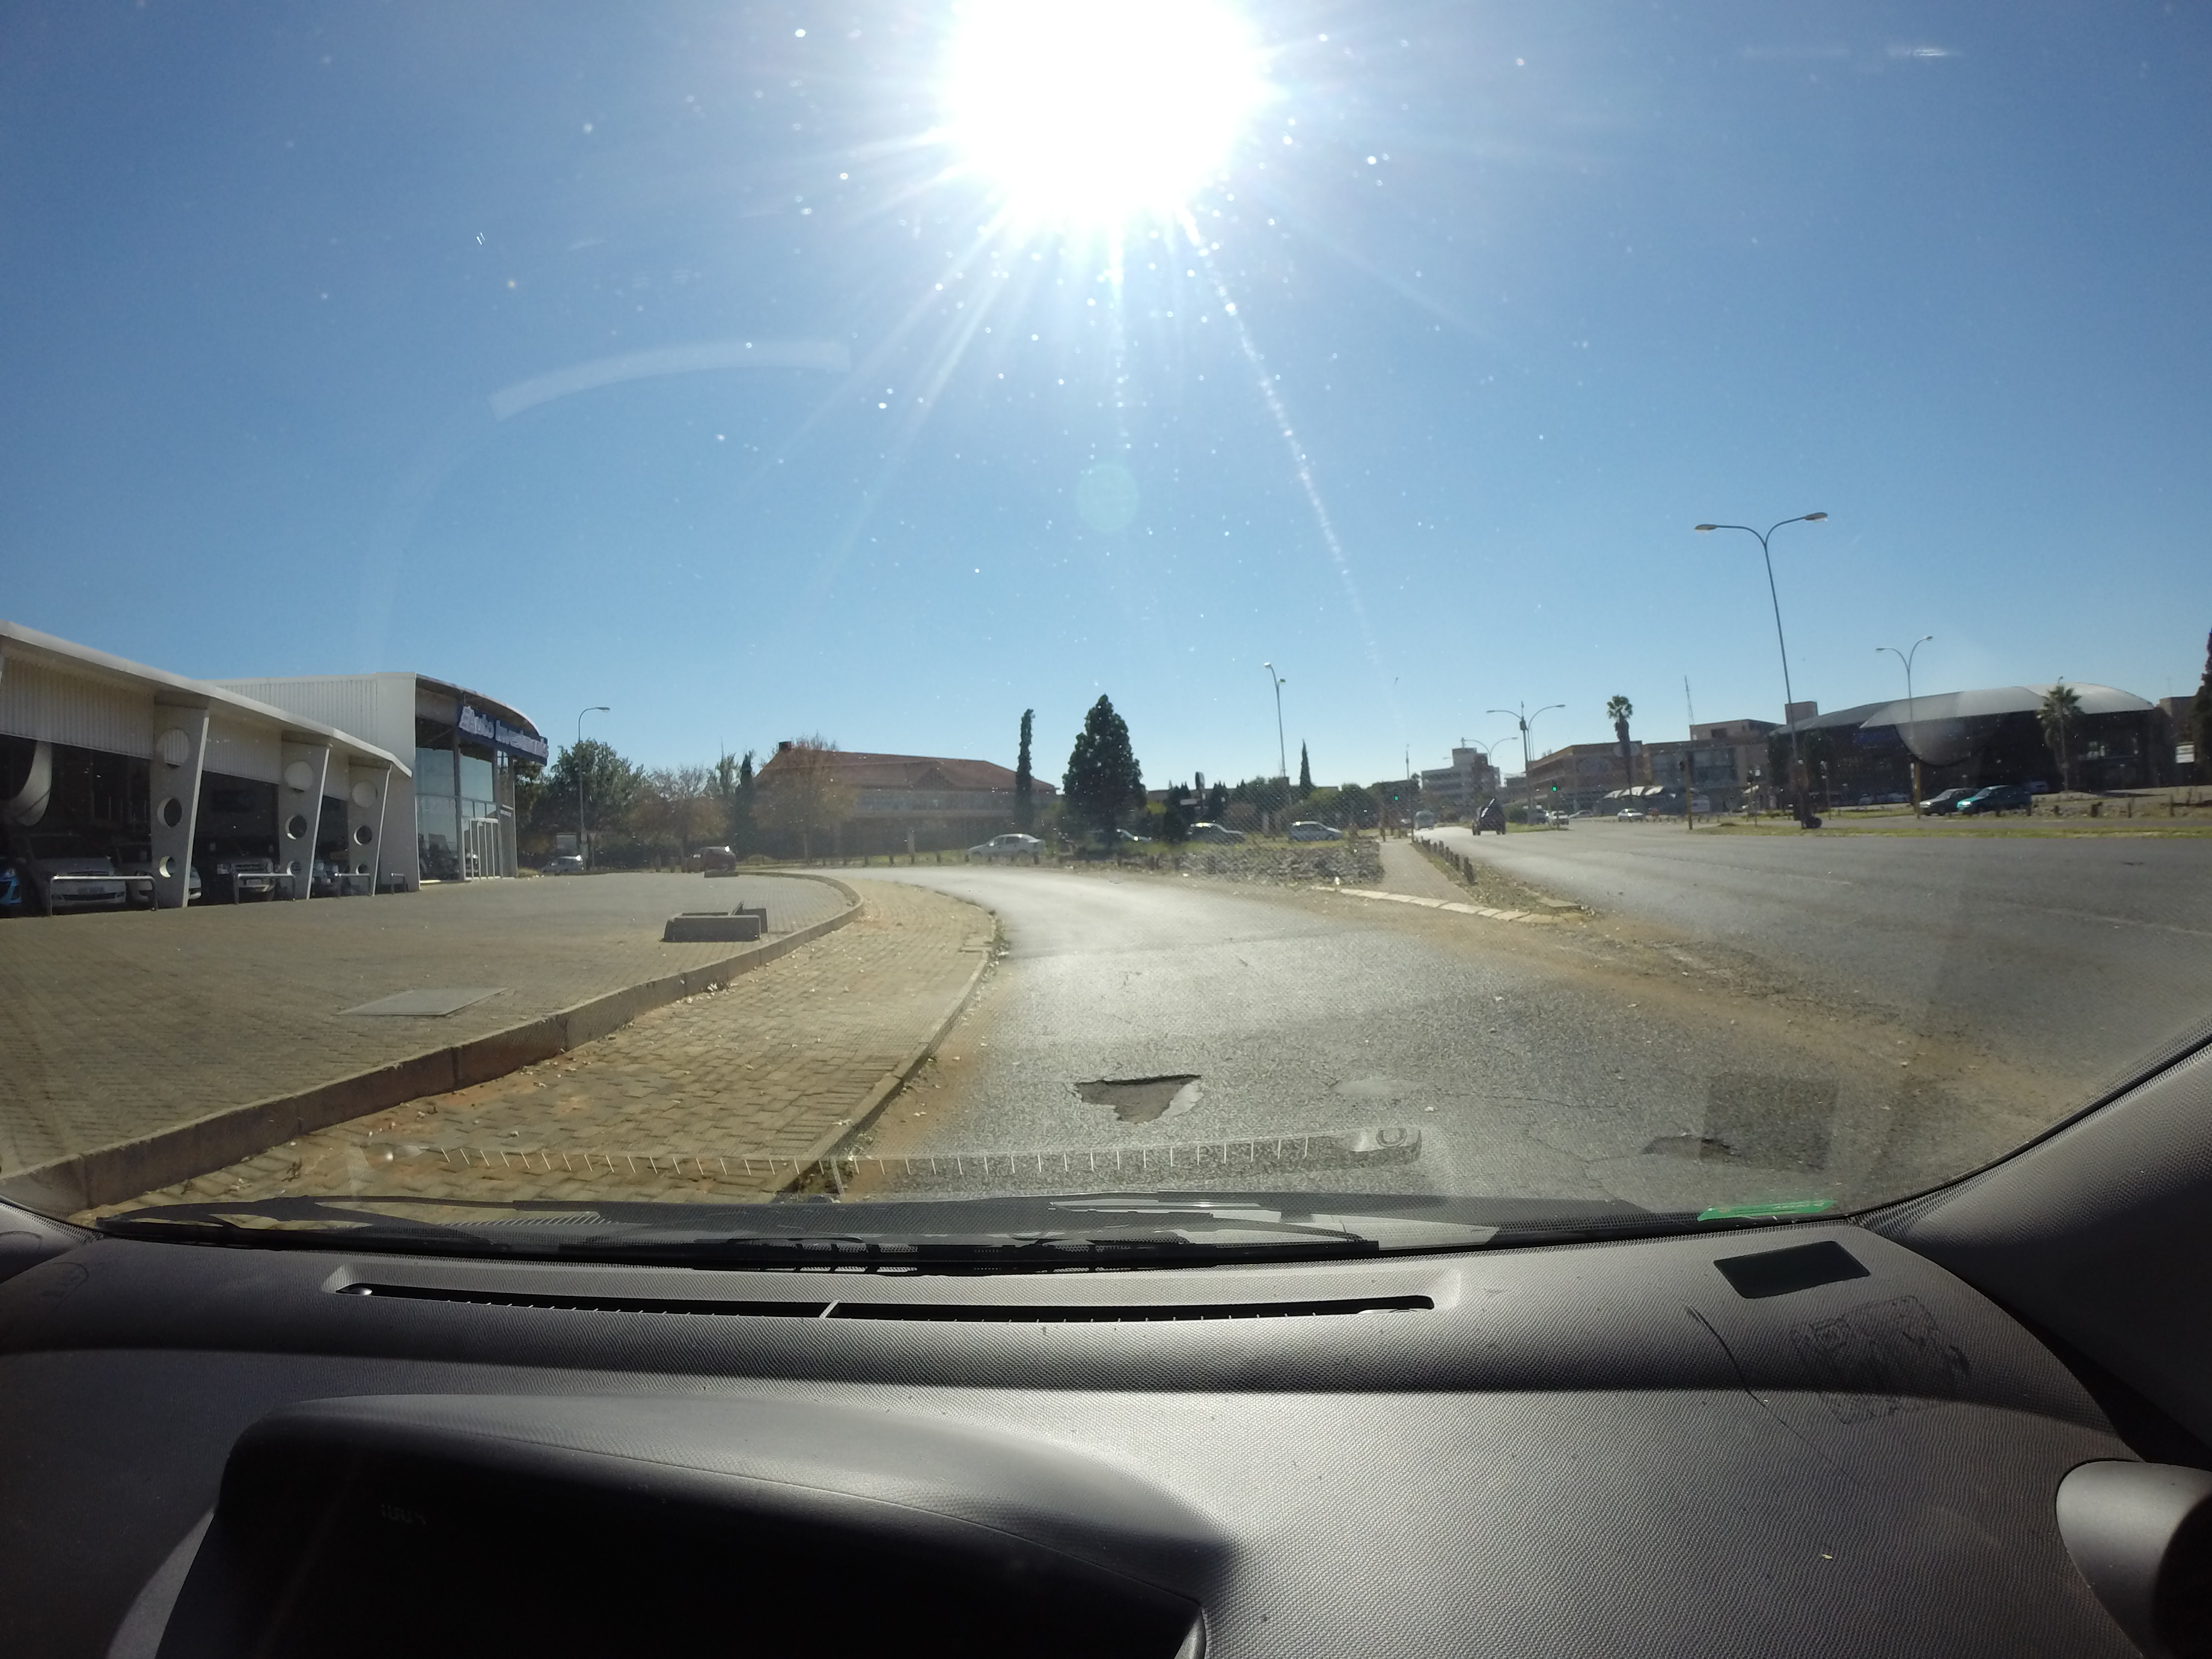pothole: (1019, 1044, 1235, 1154)
